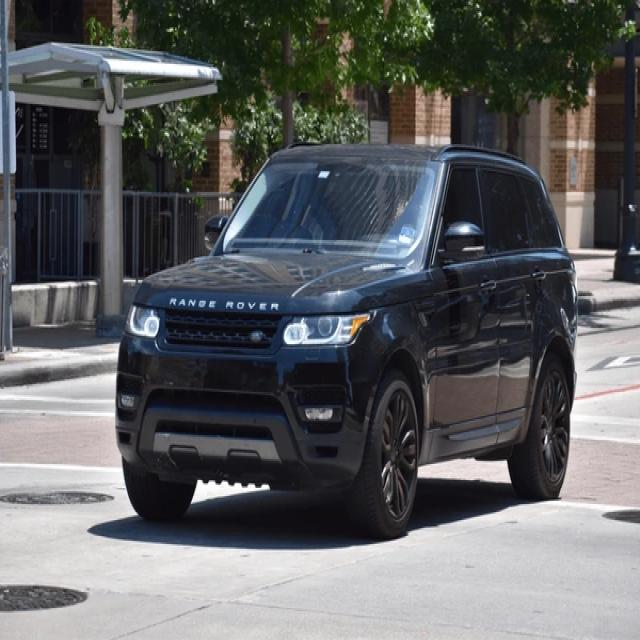rangerover: (165, 290, 282, 321)
